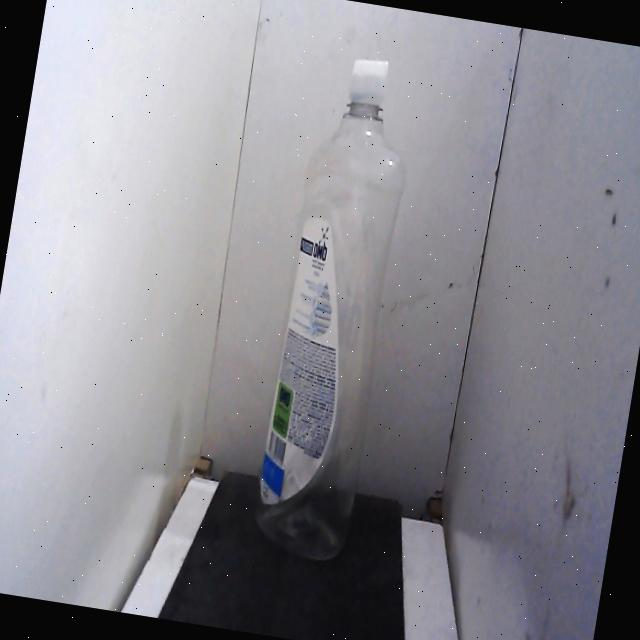plastico: (240, 36, 430, 572)
